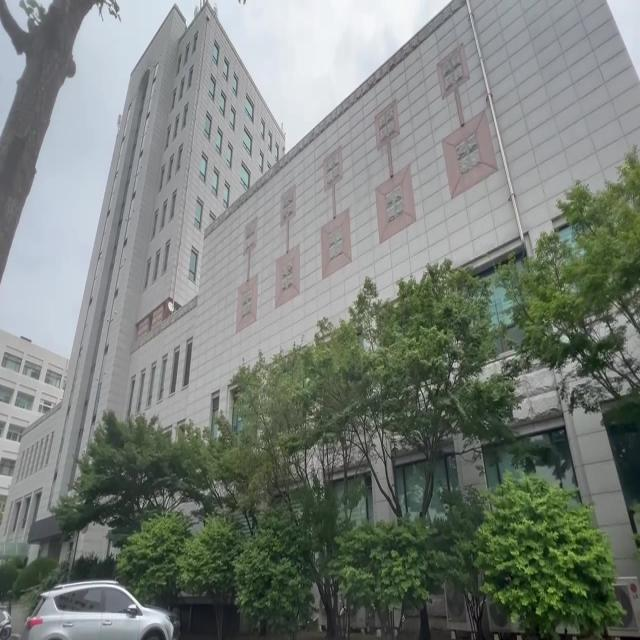building: (106, 30, 506, 338)
